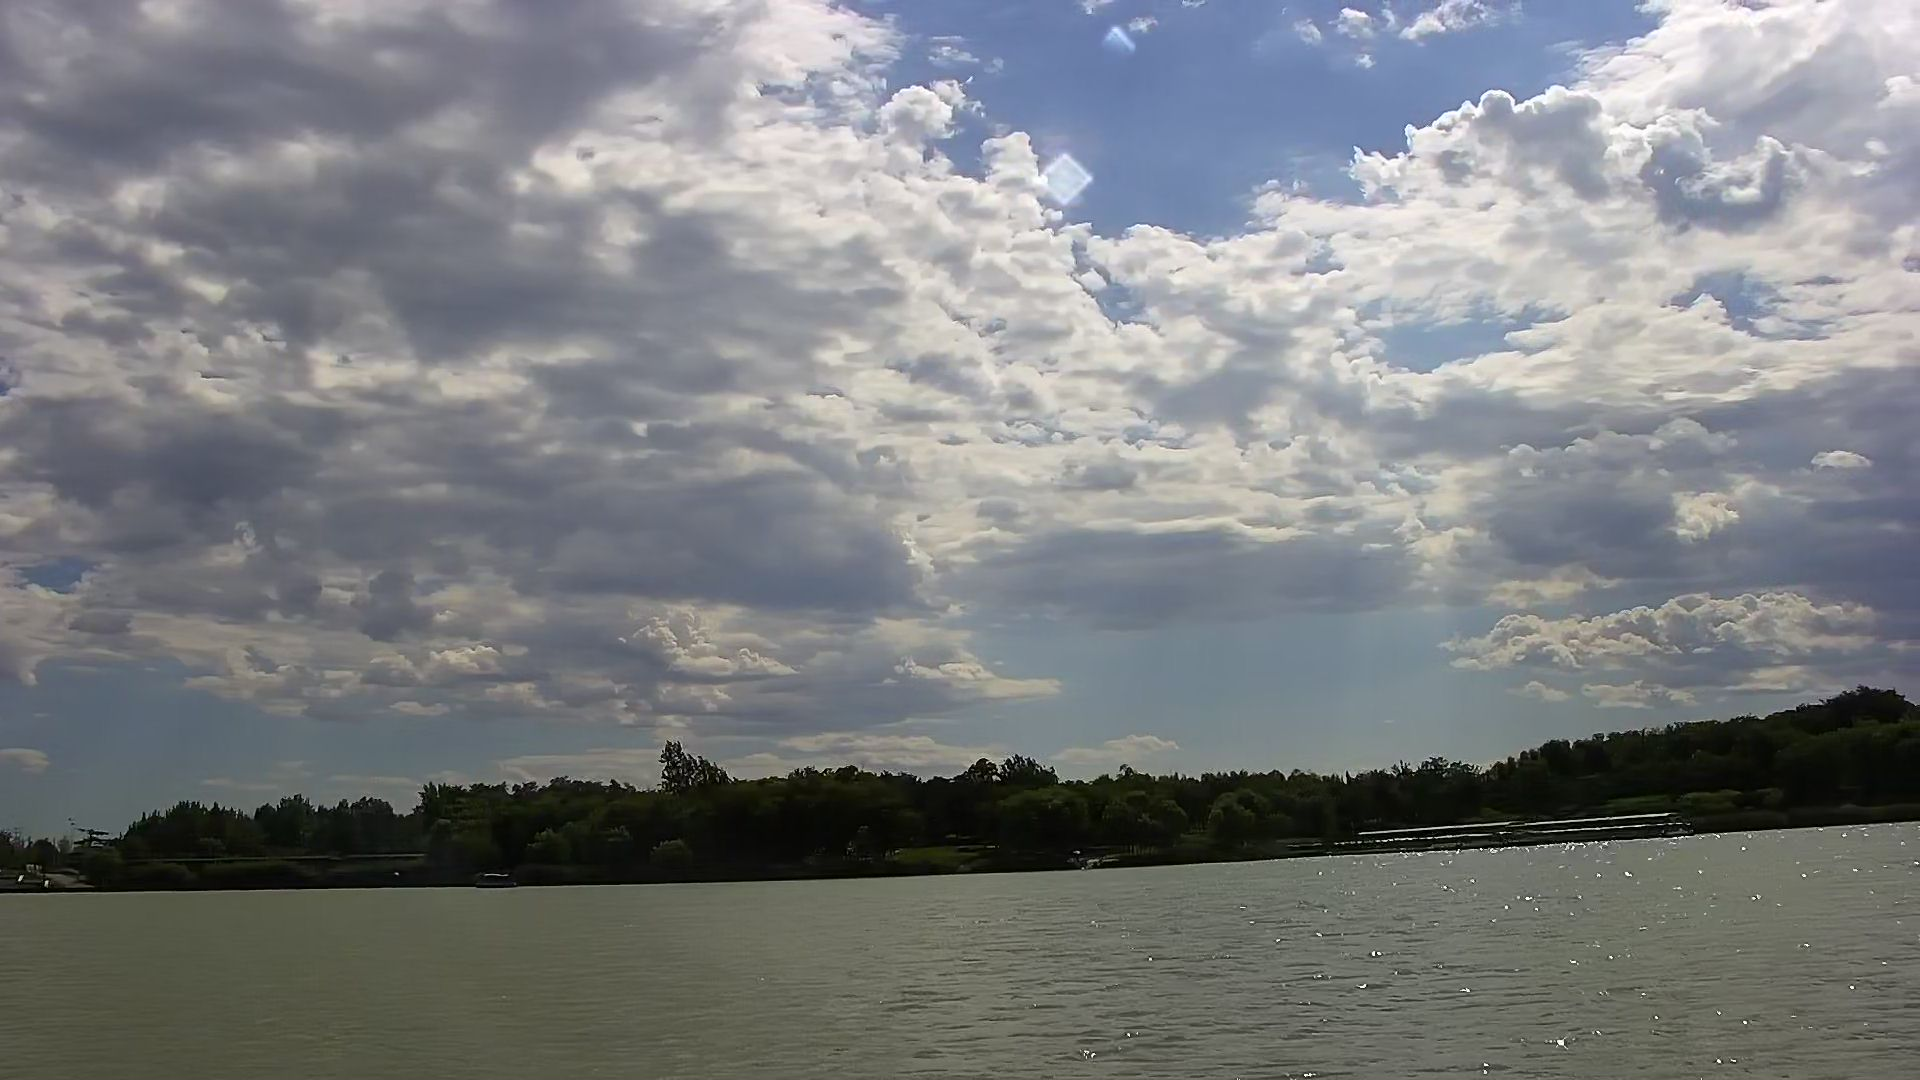harbor: (1325, 802, 1693, 852)
